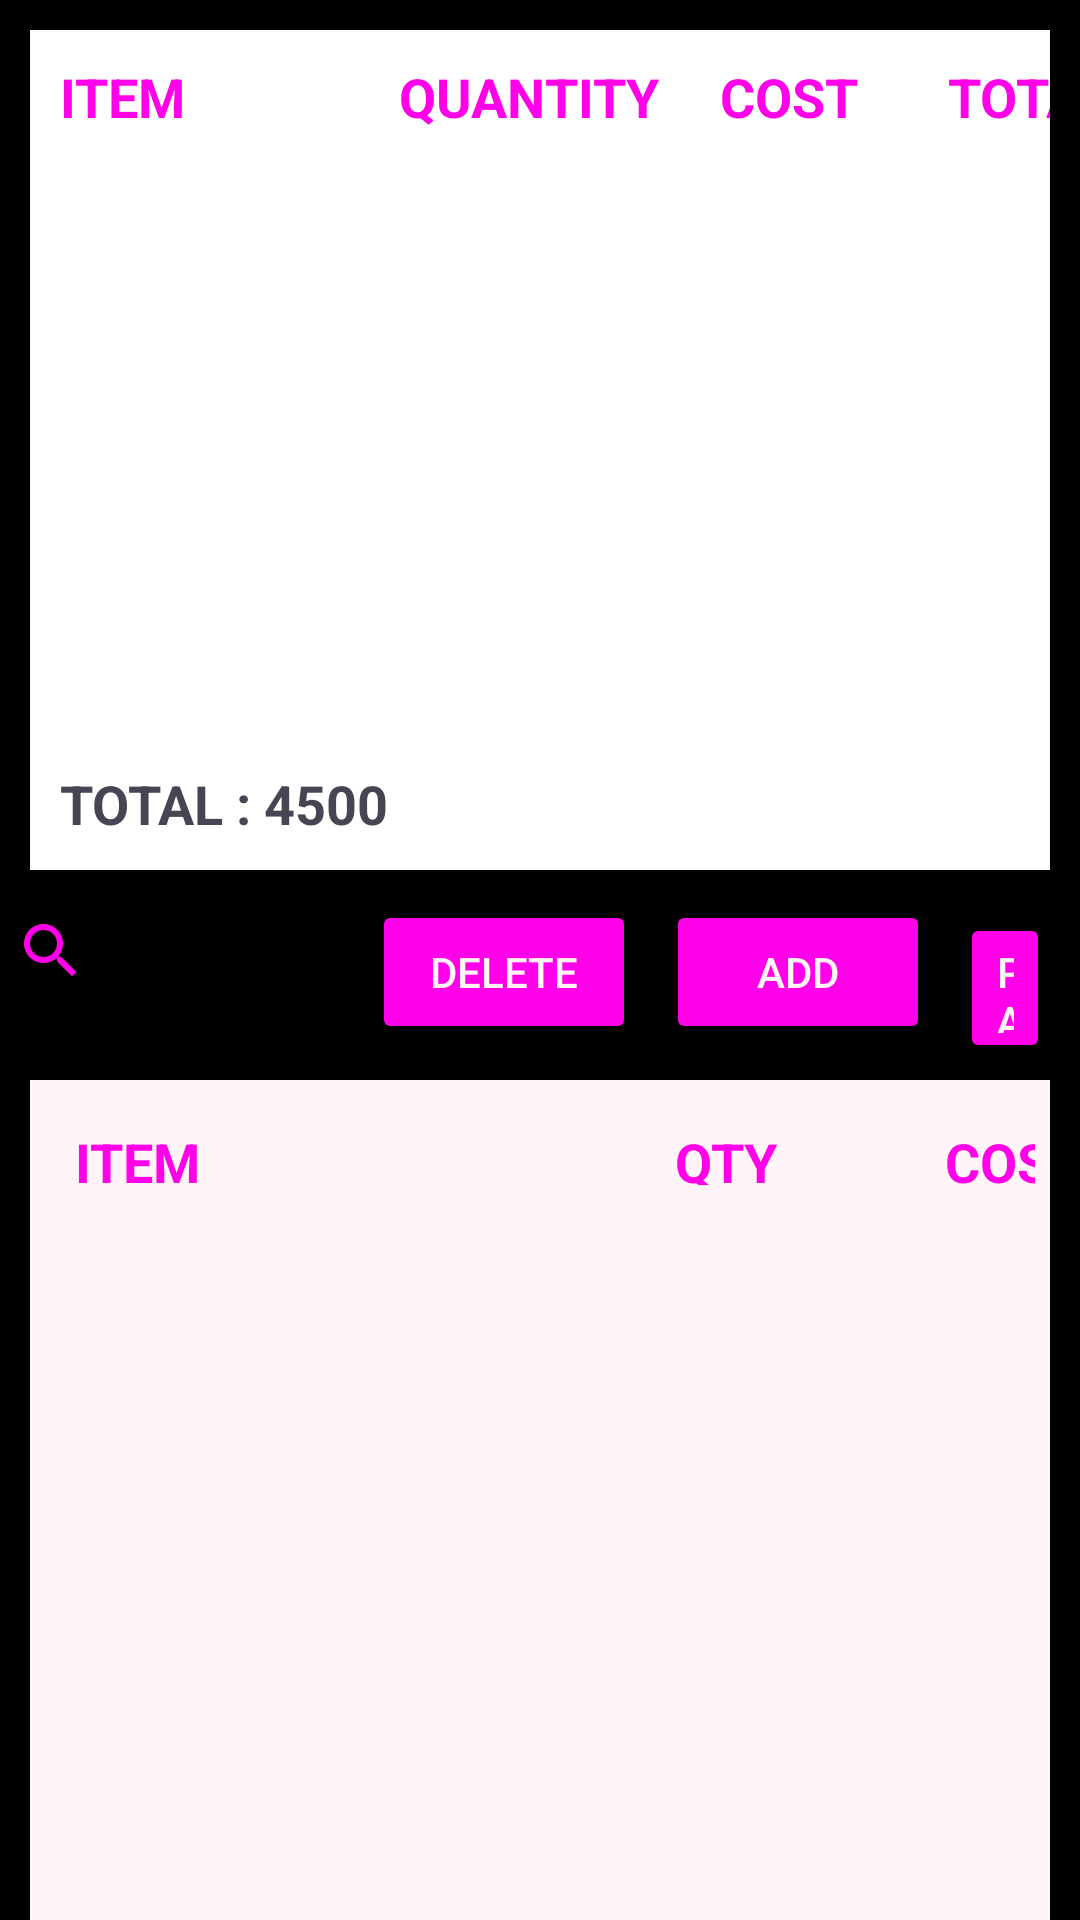

Icons on this 1080w x 1920h Android screen, each with its box as (x1, y1, x2, y2):
search: (24, 924, 76, 976)
